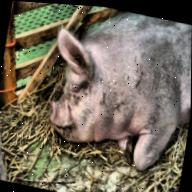boar: (38, 3, 192, 181)
